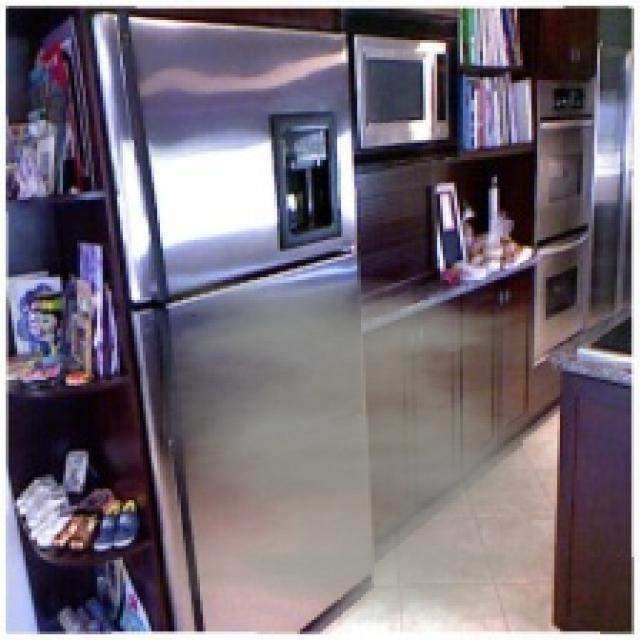smoke: (163, 277, 560, 626)
